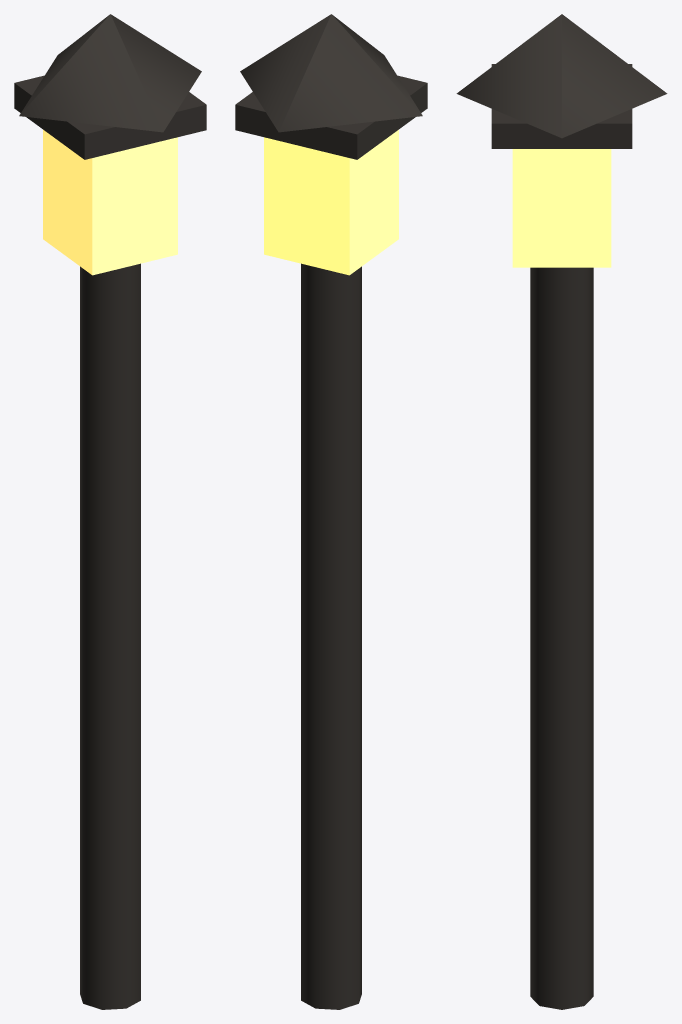
Rendered from farol.glb.
The picture shows the model from 3 angles, left to right: view 1: azimuth 30°, elevation 25°; view 2: azimuth 150°, elevation 25°; view 3: azimuth 270°, elevation 25°; orthographic projection.
Visible parts, largest first — view 1: farol; view 2: farol; view 3: farol.
Boxes of the visible parts, x1=… form: farol: x1=14, y1=14, x2=206, y2=1009; farol: x1=235, y1=14, x2=427, y2=1009; farol: x1=456, y1=14, x2=667, y2=1009.
Bounding box in the file's own units: 0.6 × 3.08 × 0.6.
